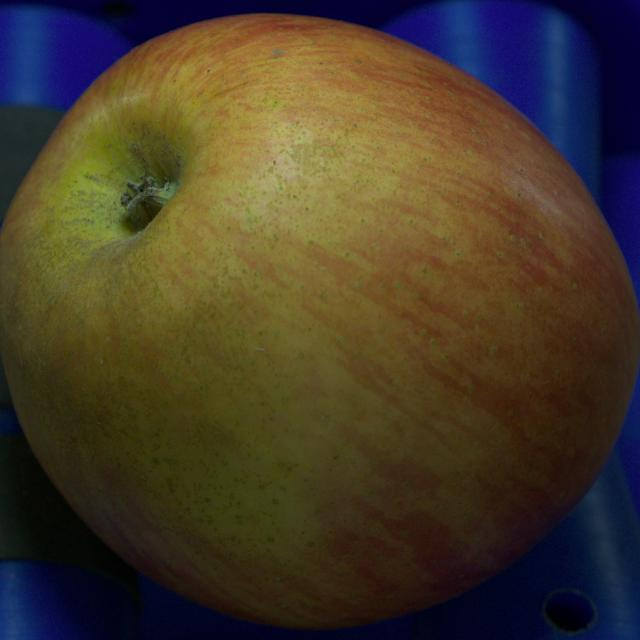apple: (0, 14, 639, 628)
